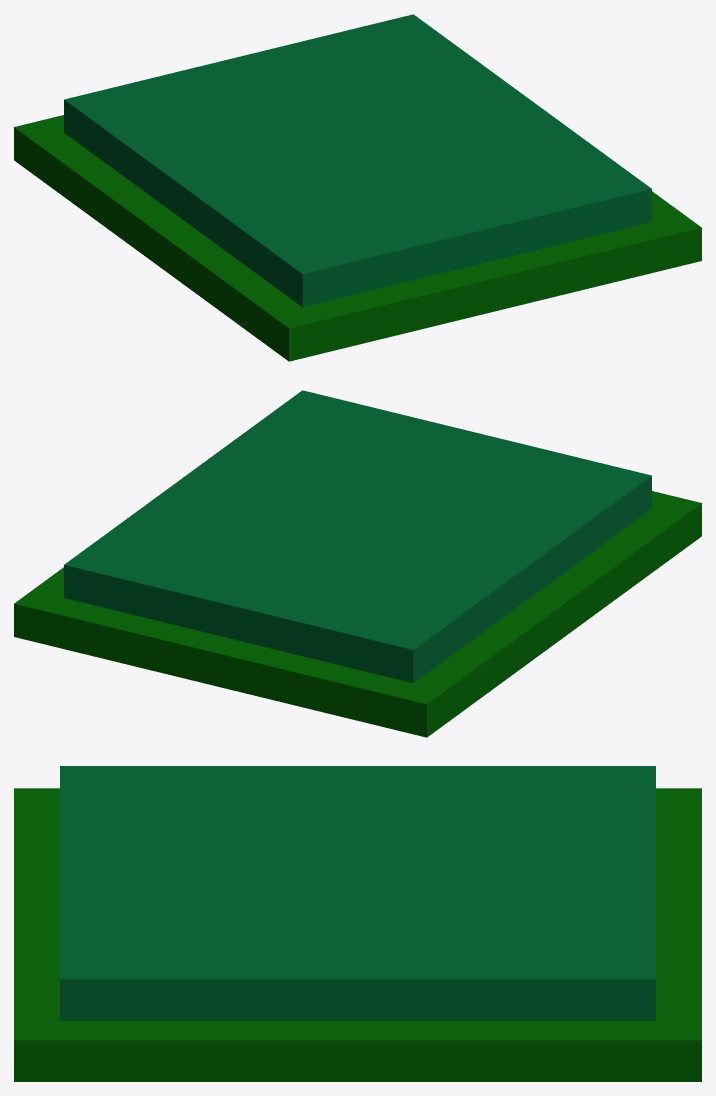
The model's file is closed-circuit-1.gltf.
The picture shows the model from 3 angles, top to bottom: view 1: azimuth 30°, elevation 25°; view 2: azimuth 150°, elevation 25°; view 3: azimuth 270°, elevation 25°; orthographic projection. The views are drawn at different scales.
Parts seen in each view (by area): view 1: Node; view 2: Node; view 3: Node.
Boxes of the visible parts, bbox=[...] form: Node: bbox=[14, 14, 701, 361]; Node: bbox=[14, 390, 701, 737]; Node: bbox=[14, 766, 701, 1081].
Size of the model in its own units: 1.3 by 0.2 by 1.5.
Materials: 1 (1 with a texture image).
